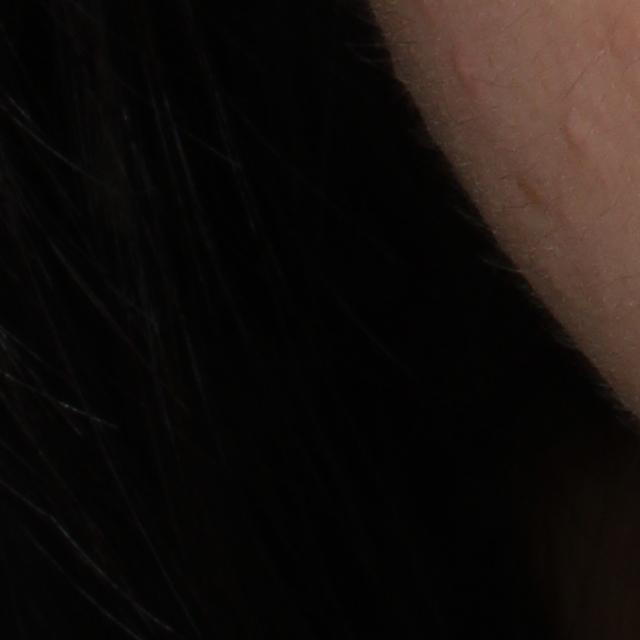comedo: (561, 111, 590, 153)
papule: (451, 47, 478, 89)
